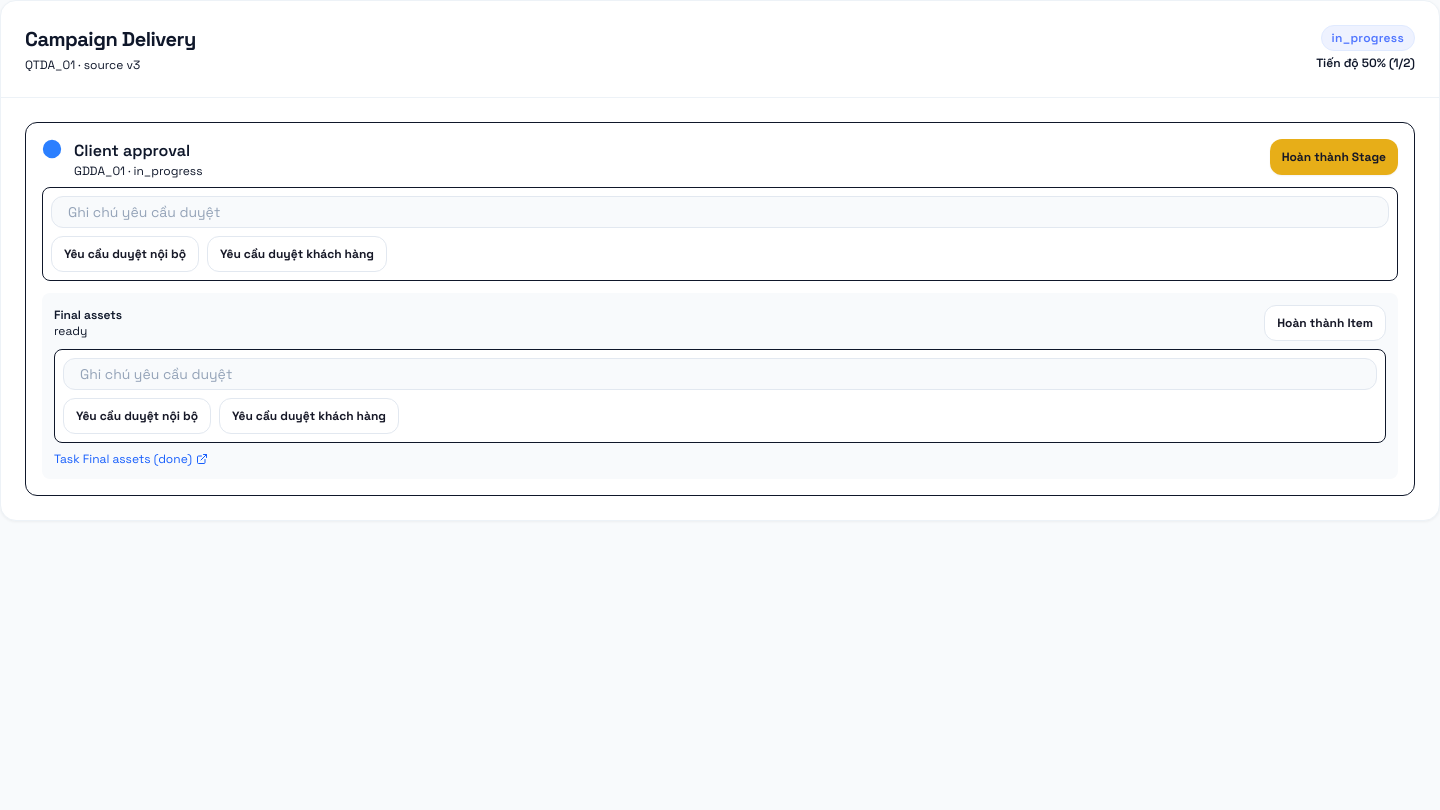
Test case: ProjectWorkflowPanel › surfaces expected Item completion failures in the panel
The image size is (1440, 810).
Click the button "Hoàn thành Item": (1325, 323) [1264, 305, 1386, 341]
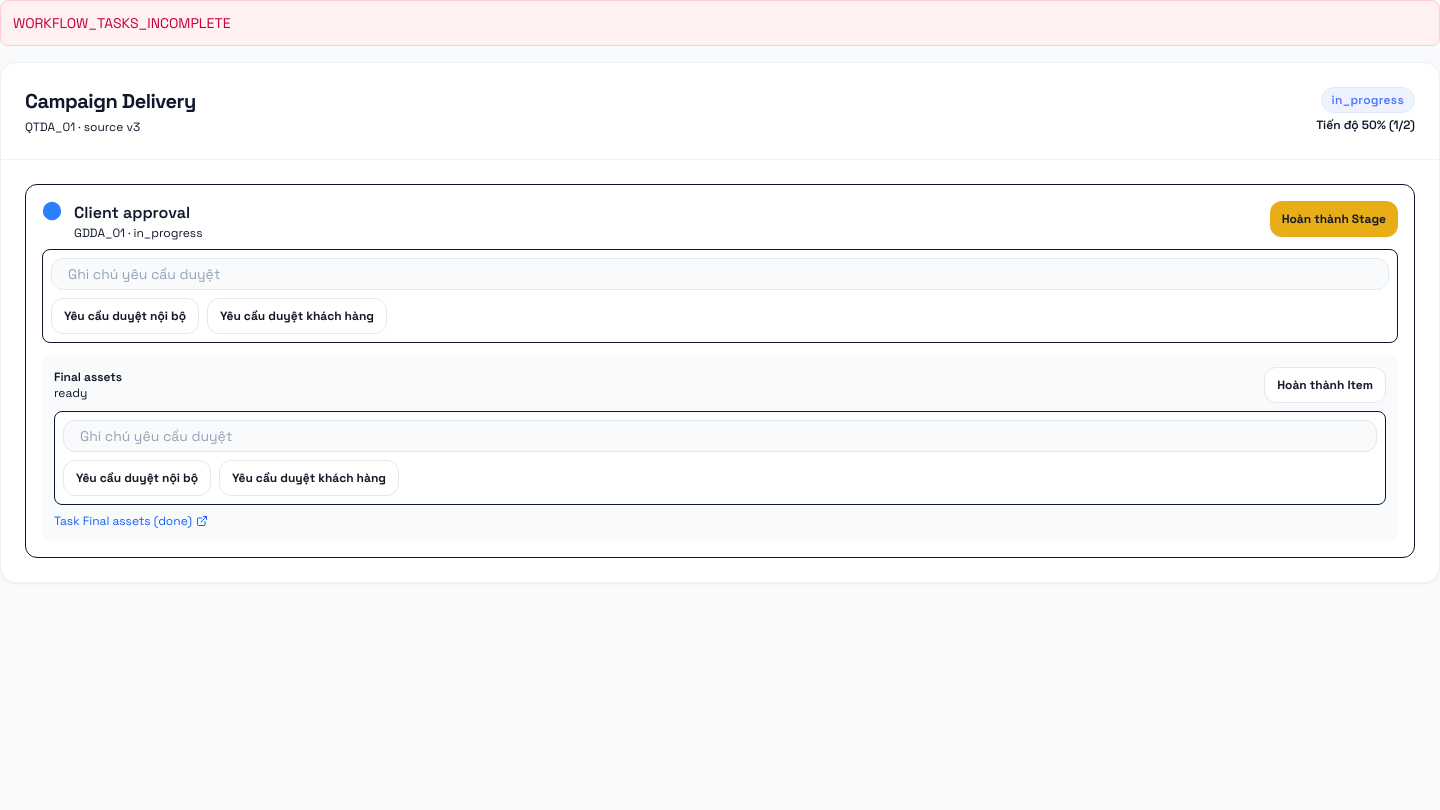
Expected: the message reads "WORKFLOW_TASKS_INCOMPLETE", [13, 14, 230, 32]
